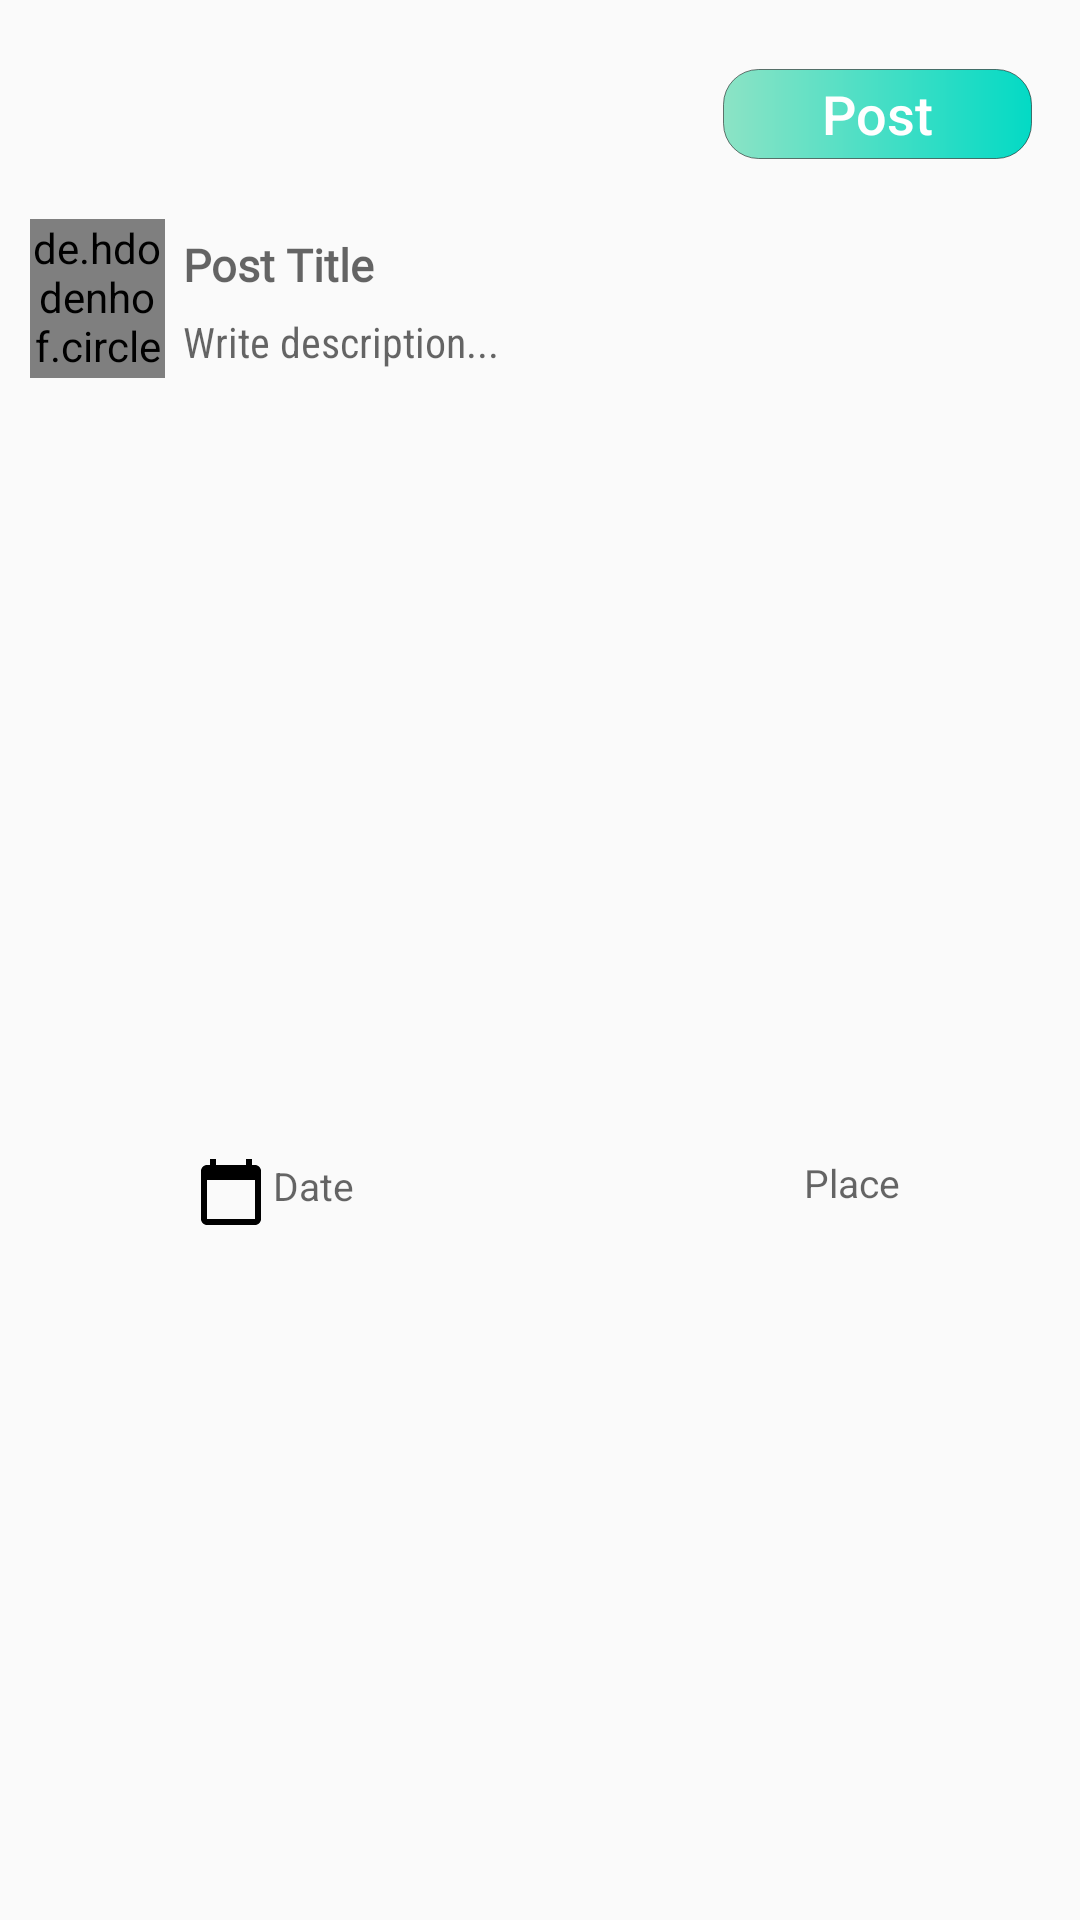

Locate icon controls on the screen. Image size 1080×1920, boxes as (x1, y1, x2, y2).
calendar: (201, 1159, 261, 1225)
